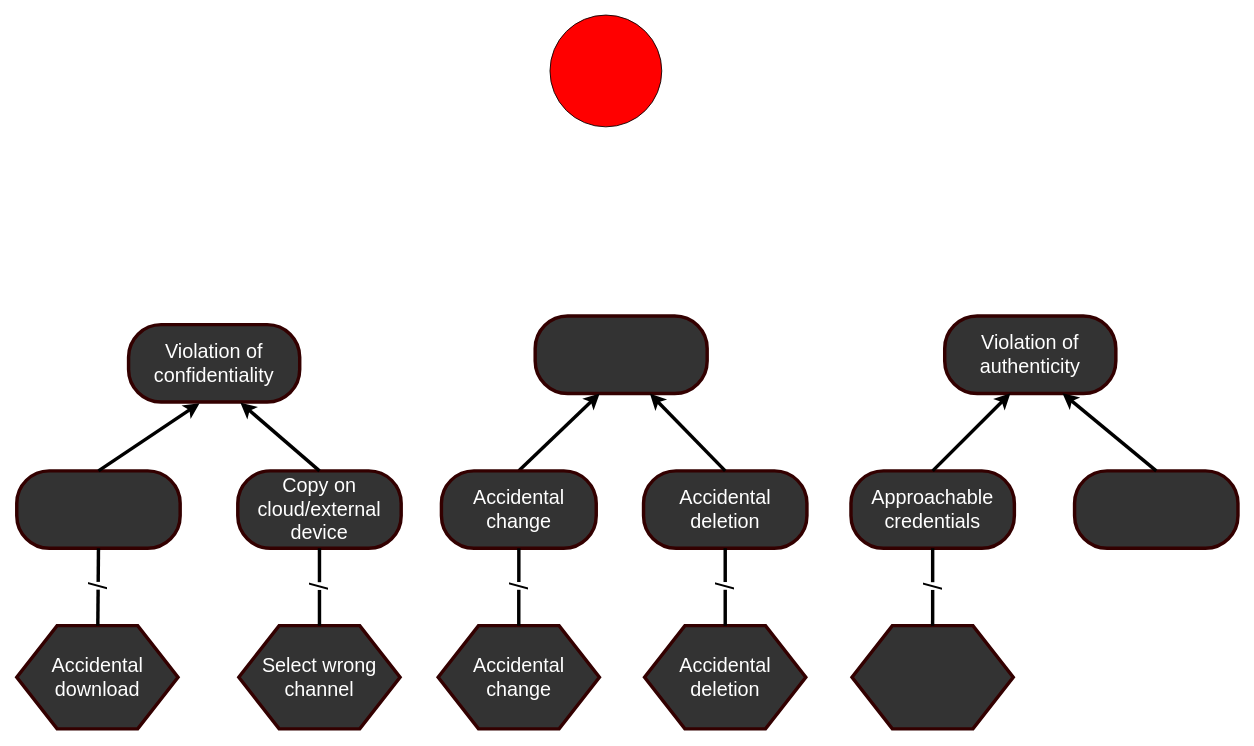
The diagram is 1254 pixels wide and 746 high, and some of its shapes have lost their labels. The centre of each missing label's shape, as x and y in pixels:
"Clumsy Direttore dei lavori" goes at (605,70).
"Copy on local device" goes at (98,509).
"Expose credentials" goes at (932,677).
"Violation of integrity" goes at (620,354).
"Weak password" goes at (1155,509).
